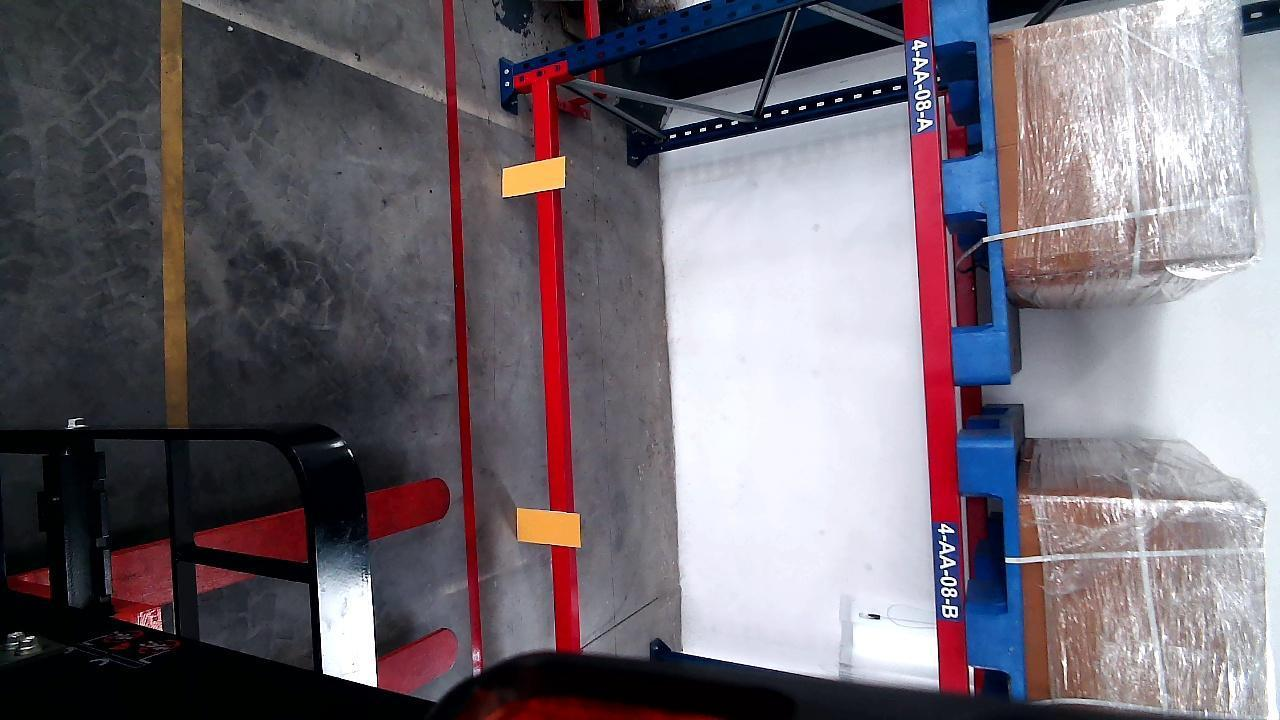h_rack: (907, 0, 970, 701), (532, 84, 576, 652)
orange_strip: (499, 157, 565, 197), (516, 507, 582, 547)
red_line: (441, 0, 483, 673)
small_pallet: (962, 441, 1024, 700)
yellow_line: (161, 2, 189, 423)
